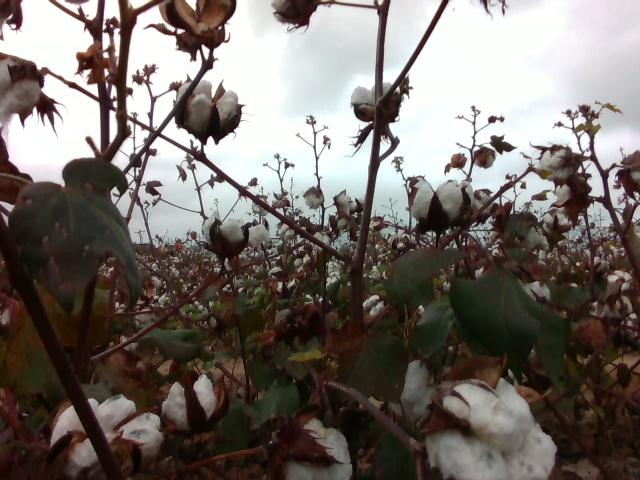cotton_ready: (425, 372, 556, 480), (50, 393, 163, 473), (288, 416, 355, 480), (177, 77, 239, 137), (410, 181, 475, 227), (390, 362, 439, 421), (0, 59, 42, 127), (162, 376, 216, 428), (350, 83, 403, 121), (203, 214, 251, 254), (269, 0, 319, 25), (542, 147, 576, 177), (520, 278, 553, 303)
